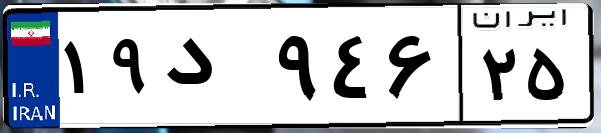1: (57, 26, 110, 100)
2: (475, 38, 525, 113)
4: (330, 28, 385, 110)
5: (525, 38, 570, 115)
6: (385, 28, 445, 110)
9: (270, 28, 330, 110), (110, 28, 158, 98)
د: (158, 20, 270, 120)
